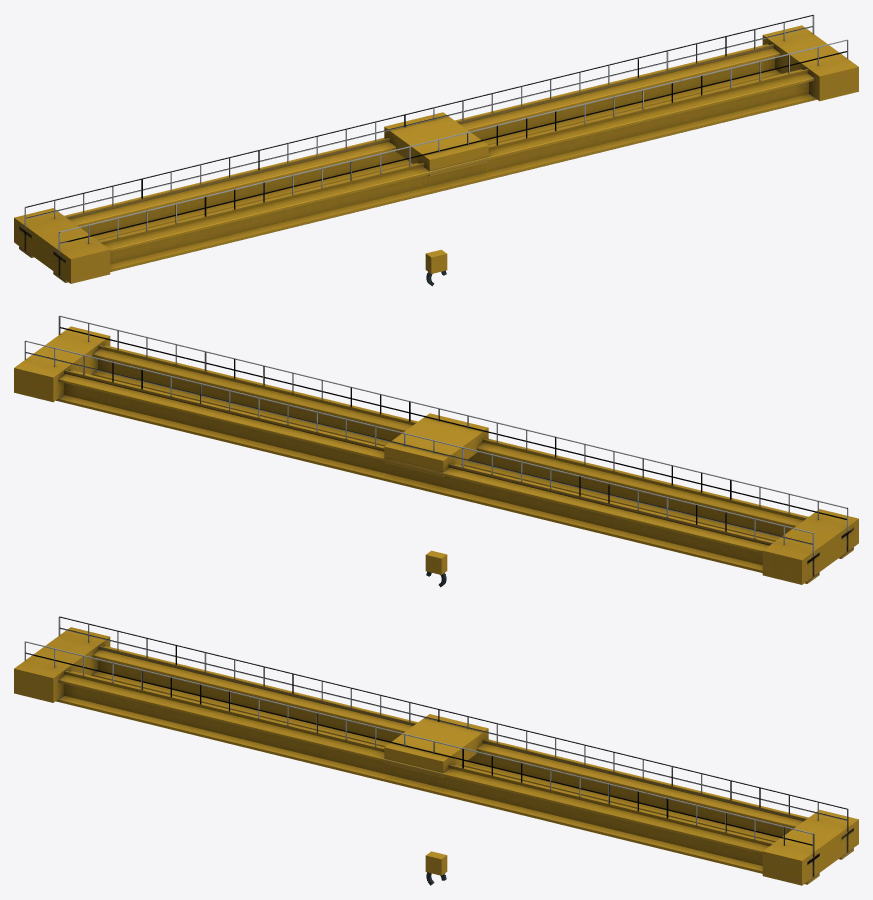
Rendered from crane_bridge.glb.
The picture shows the model from 3 angles, top to bottom: view 1: azimuth 30°, elevation 25°; view 2: azimuth 150°, elevation 25°; view 3: azimuth 330°, elevation 25°; orthographic projection.
Visible parts, largest first — view 1: bridge, trolley, hook; view 2: bridge, trolley, hook; view 3: bridge, trolley, hook.
Part boxes in pixels (<box>): bridge: <box>14,14,858,283</box>; trolley: <box>384,112,488,176</box>; hook: <box>425,249,447,286</box>; bridge: <box>14,315,858,584</box>; trolley: <box>384,413,488,477</box>; hook: <box>425,550,447,587</box>; bridge: <box>14,616,858,885</box>; trolley: <box>384,714,488,777</box>; hook: <box>425,851,447,885</box>.
Bounding box in the file's own units: 40.04 × 7.82 × 5.
Materials: 3 (3 with a texture image).
